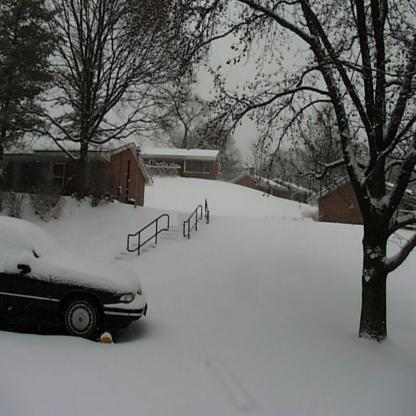Car: (1, 217, 147, 342)
